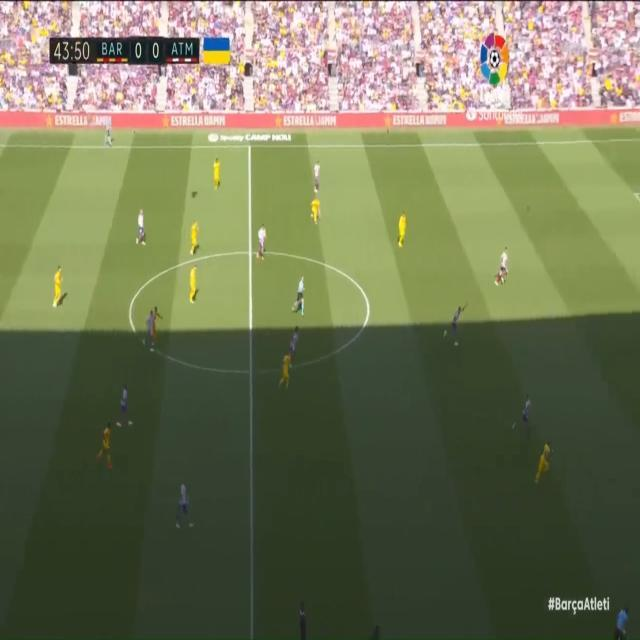ball: (527, 204, 533, 214)
player: (510, 390, 535, 444), (443, 302, 469, 352), (49, 262, 71, 320), (534, 436, 553, 497), (285, 319, 307, 371), (176, 474, 195, 532), (115, 382, 137, 432), (94, 421, 114, 469), (492, 245, 510, 292), (133, 203, 149, 250), (141, 311, 157, 357), (277, 349, 292, 392), (396, 207, 410, 252), (255, 223, 270, 262), (188, 219, 202, 259), (212, 153, 226, 191), (312, 161, 326, 199), (309, 195, 324, 230), (152, 305, 163, 348), (189, 265, 199, 308)
referee: (290, 275, 309, 322), (613, 601, 630, 639), (104, 112, 115, 152)
